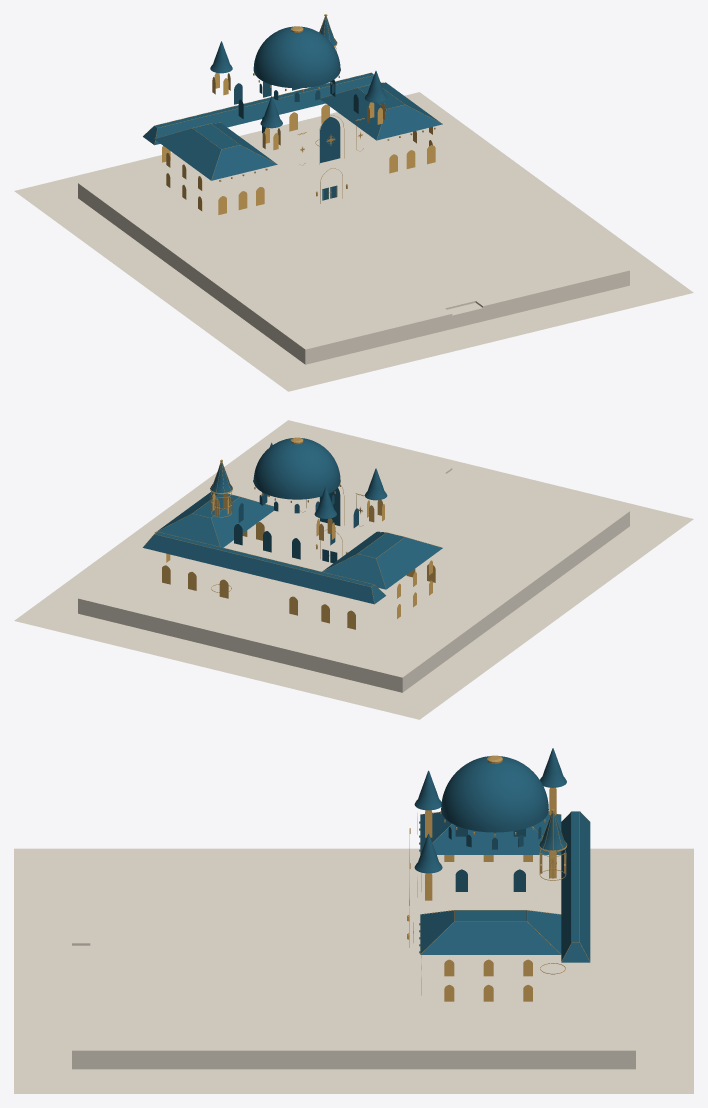
The model's file is castle-07.glb.
3 renders of one model, top to bottom at view 1: azimuth 30°, elevation 25°; view 2: azimuth 150°, elevation 25°; view 3: azimuth 270°, elevation 25°, orthographic. The views are drawn at different scales.
Parts seen in each view (by area): view 1: NC.Export.Site.IvoryStone, NC.Export.Palace.TealRoof, NC.Export.Palace.WarmWindow, NC.Export.Palace.RoyalGold.02; view 2: NC.Export.Site.IvoryStone, NC.Export.Palace.TealRoof, NC.Export.Palace.WarmWindow, NC.Export.Palace.RoyalGold.02; view 3: NC.Export.Site.IvoryStone, NC.Export.Palace.TealRoof, NC.Export.Palace.WarmWindow, NC.Export.Palace.RoyalGold.02.
Boxes of the visible parts, x1,y1,x2,y2 form: NC.Export.Site.IvoryStone: [14, 92, 693, 391]; NC.Export.Palace.TealRoof: [143, 16, 442, 200]; NC.Export.Palace.WarmWindow: [162, 72, 435, 214]; NC.Export.Palace.RoyalGold.02: [143, 14, 442, 203]; NC.Export.Site.IvoryStone: [14, 420, 693, 719]; NC.Export.Palace.TealRoof: [143, 438, 442, 604]; NC.Export.Palace.WarmWindow: [162, 493, 435, 629]; NC.Export.Palace.RoyalGold.02: [143, 437, 442, 603]; NC.Export.Site.IvoryStone: [14, 848, 693, 1093]; NC.Export.Palace.TealRoof: [414, 748, 590, 962]; NC.Export.Palace.WarmWindow: [407, 787, 556, 1001]; NC.Export.Palace.RoyalGold.02: [407, 755, 589, 974].
Bounding box in the file's own units: 140 × 56.8 × 164.
